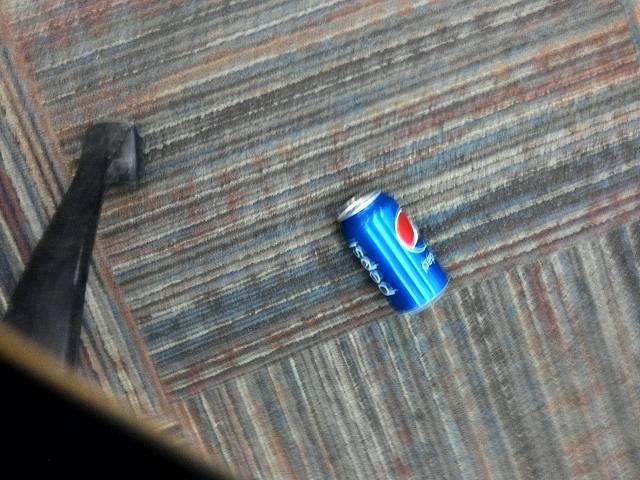can: (319, 186, 462, 326)
